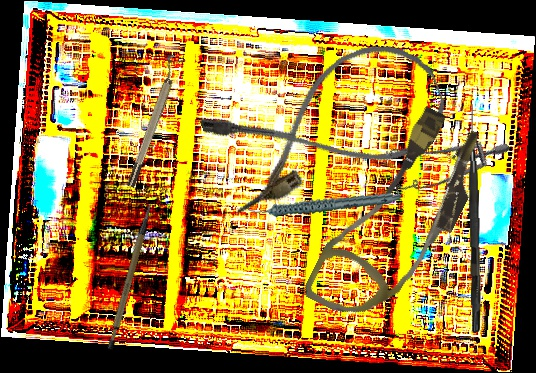Cannula: (196, 27, 457, 220), (300, 94, 498, 342)
Fixation Ring: (118, 53, 187, 189)
Handpiece: (245, 172, 402, 235)
Hook Surgical: (464, 104, 484, 333)
Scalpel Handle: (87, 201, 176, 352)
Speculum: (371, 88, 511, 224)
